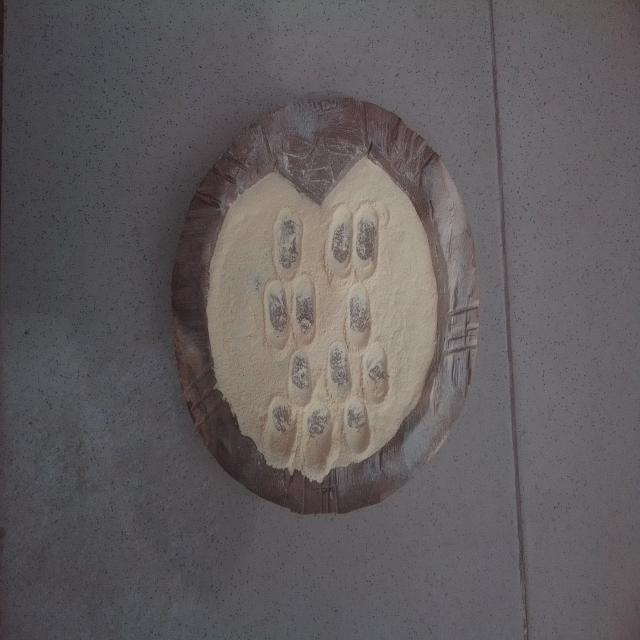double: (266, 395, 336, 477), (327, 198, 382, 288), (324, 340, 394, 406), (262, 274, 318, 352)
single: (342, 283, 376, 353), (271, 206, 302, 281), (286, 350, 315, 410), (345, 399, 372, 459)
